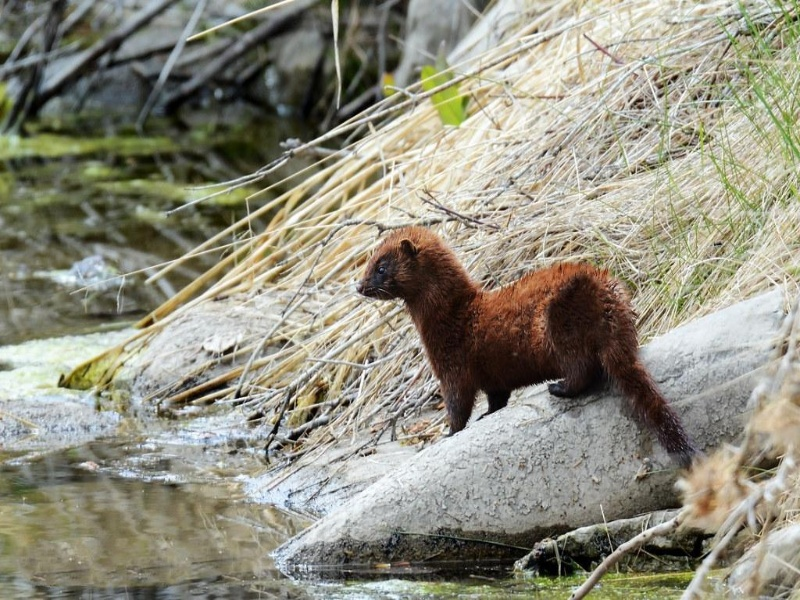minkish: (355, 225, 701, 466)
